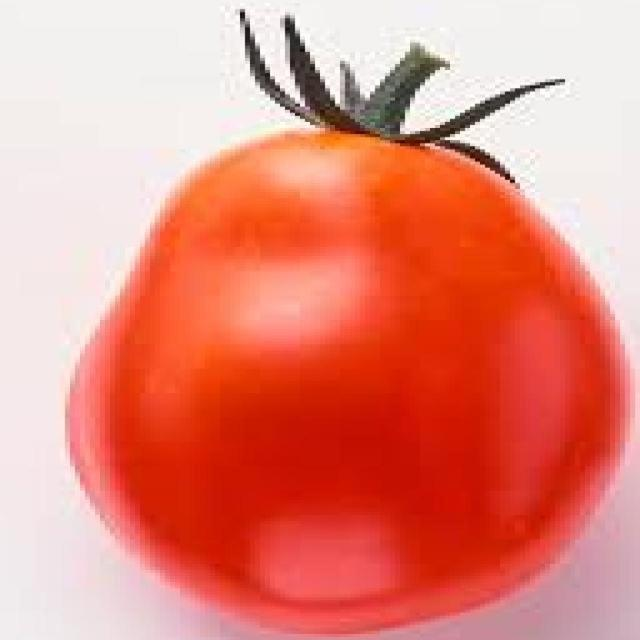Healthy Fruit: (31, 43, 426, 427)
